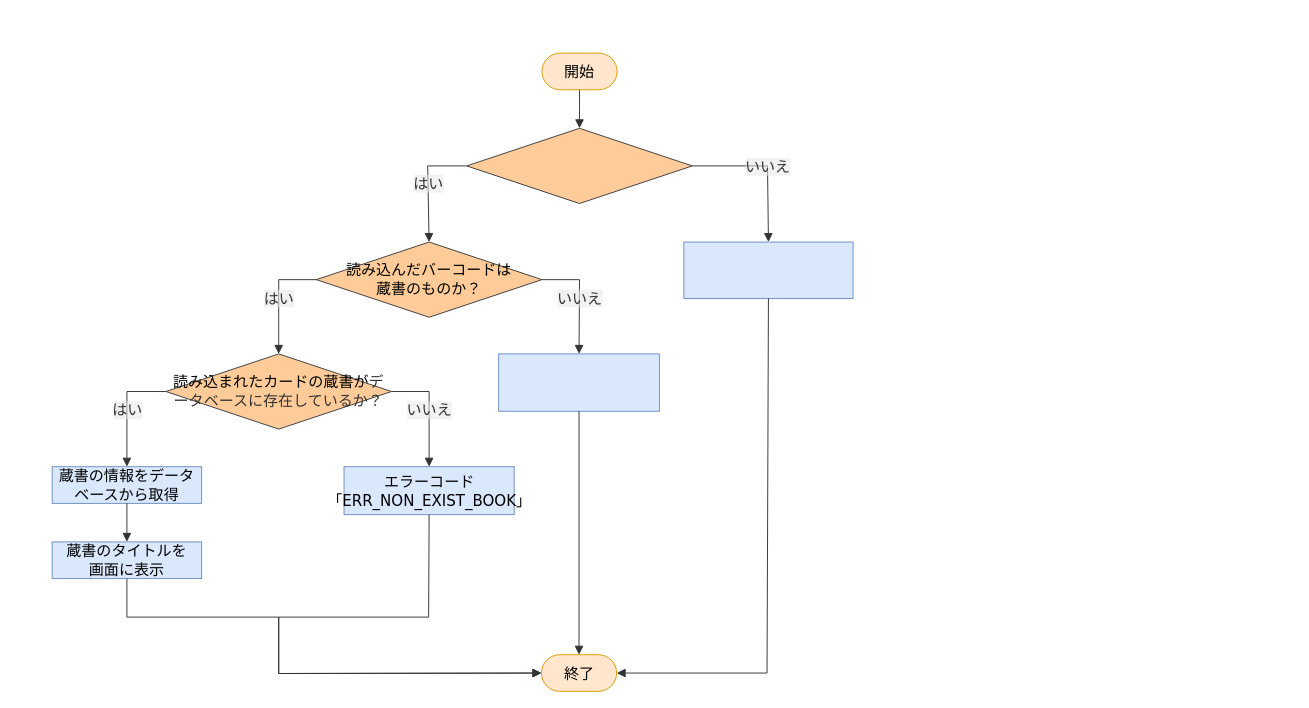
Image size: 1309x708. Some labels were removed from this diagram. Each missing label, with the centre of its shape:
"エラーコード「ERR_BOOK_BARCODE」" belongs at (x=578, y=382).
"エラーコード「ERR_INPUT_BARCODE」" belongs at (x=768, y=269).
"バーコードが正常に 読み込めたか？" belongs at (x=579, y=165).
